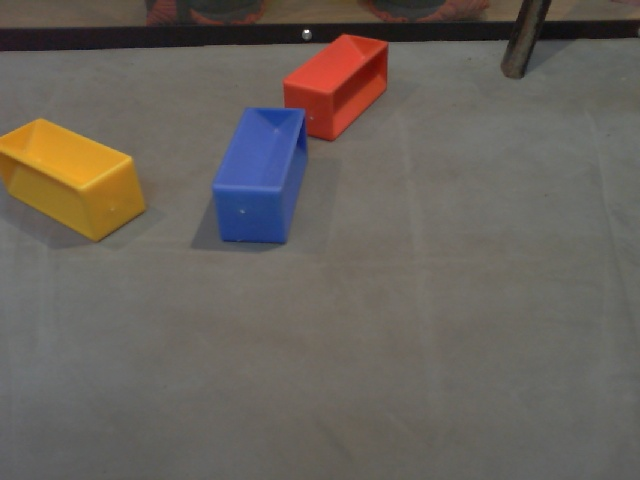BlueSample: (209, 103, 314, 254)
RedSample: (279, 30, 391, 147)
YellowSample: (1, 116, 149, 246)
